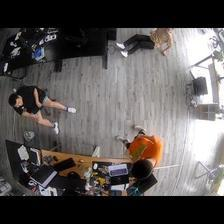fall: (115, 28, 177, 59)
normal: (115, 119, 165, 175)
